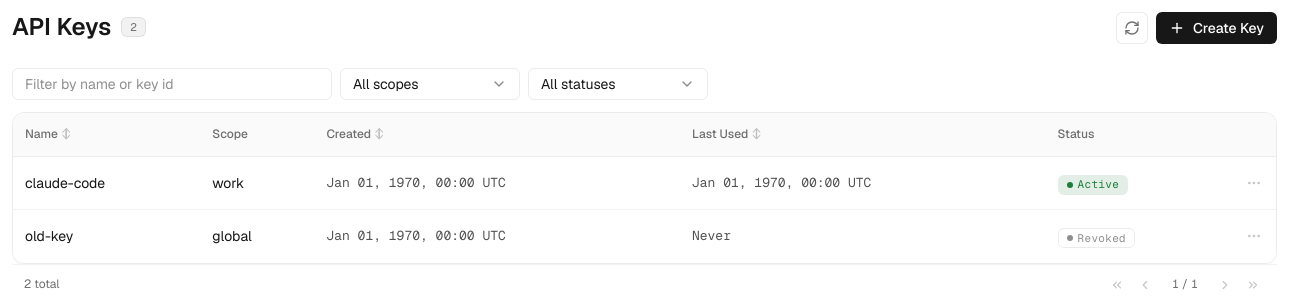
it: KeysPage — table columns + scope facet › status facet filters to revoked rows only
The image size is (1292, 307).
Step 1. Click the dropdown named "filter by status" → point(618, 84), box x1=528 y1=68 x2=708 y2=100
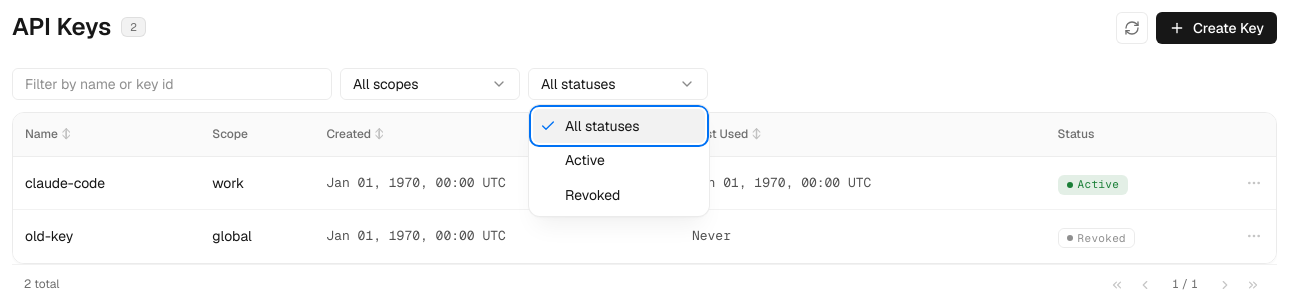
Step 2. Click the option "Revoked" → point(593, 195), box x1=565 y1=186 x2=620 y2=204
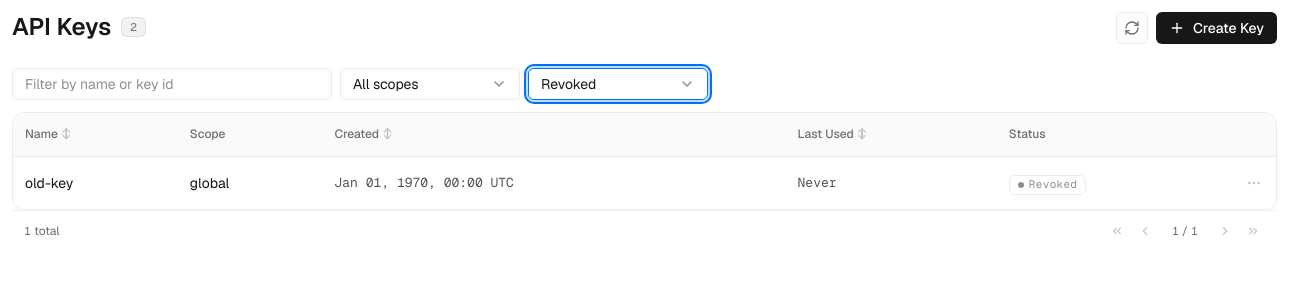
Expected: the text "old-key" is shown, x1=13 y1=157 x2=178 y2=209
Expected: the text "claude-code" is gone
